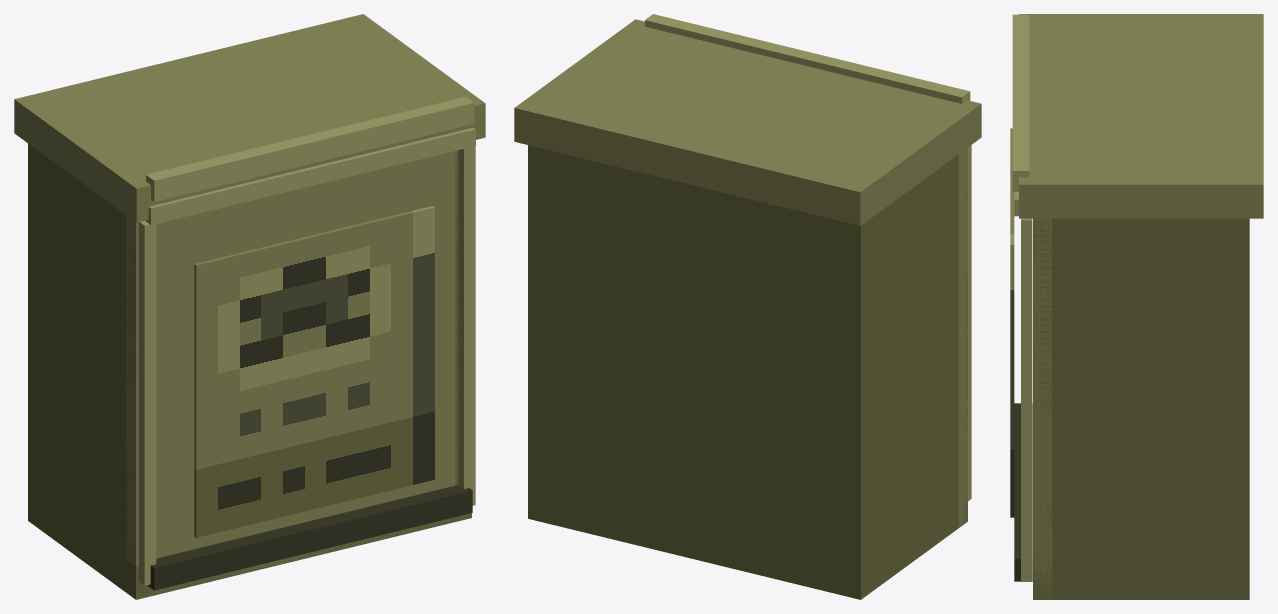
File: CMU3DRMCMRESPPExtraCloud.glb
The picture shows the model from 3 angles, left to right: view 1: azimuth 30°, elevation 25°; view 2: azimuth 150°, elevation 25°; view 3: azimuth 270°, elevation 25°; orthographic projection.
Visible parts, largest first — view 1: original ration printed face, closed folded top, front thick package wall, left full-depth folded side, lower horizontal heat-seal, top closure band, upper neck front folded lip, left raised side seam, right raised side seam, closed ration floor, rear thick package wall, right full-depth folded side; view 2: rear thick package wall, closed folded top, left full-depth folded side, closed ration floor, top closure band, front thick package wall, right full-depth folded side, left raised side seam; view 3: right full-depth folded side, closed folded top, rear thick package wall, front thick package wall, closed ration floor, right raised side seam, top closure band, original ration printed face, lower horizontal heat-seal.
Boxes of the visible parts, x1=… form: original ration printed face: x1=194, y1=206, x2=434, y2=537; closed folded top: x1=14, y1=14, x2=485, y2=222; front thick package wall: x1=126, y1=151, x2=471, y2=599; left full-depth folded side: x1=28, y1=144, x2=138, y2=599; lower horizontal heat-seal: x1=147, y1=485, x2=472, y2=590; top closure band: x1=146, y1=96, x2=474, y2=201; upper neck front folded lip: x1=145, y1=127, x2=475, y2=224; left raised side seam: x1=139, y1=221, x2=156, y2=585; right raised side seam: x1=458, y1=146, x2=475, y2=505; closed ration floor: x1=28, y1=487, x2=471, y2=599; rear thick package wall: x1=28, y1=143, x2=37, y2=527; right full-depth folded side: x1=455, y1=150, x2=471, y2=521; rear thick package wall: x1=528, y1=145, x2=870, y2=599; closed folded top: x1=514, y1=19, x2=981, y2=225; left full-depth folded side: x1=844, y1=148, x2=967, y2=598; closed ration floor: x1=528, y1=486, x2=967, y2=599; top closure band: x1=645, y1=14, x2=970, y2=103; front thick package wall: x1=958, y1=148, x2=967, y2=527; right full-depth folded side: x1=528, y1=145, x2=543, y2=514; left raised side seam: x1=968, y1=145, x2=971, y2=501; right full-depth folded side: x1=1033, y1=218, x2=1249, y2=599; closed folded top: x1=1019, y1=14, x2=1263, y2=218; rear thick package wall: x1=1230, y1=218, x2=1249, y2=599; front thick package wall: x1=1033, y1=218, x2=1052, y2=599; closed ration floor: x1=1033, y1=566, x2=1249, y2=599; right raised side seam: x1=1021, y1=218, x2=1032, y2=580; top closure band: x1=1012, y1=14, x2=1029, y2=191; original ration printed face: x1=1010, y1=128, x2=1014, y2=517; lower horizontal heat-seal: x1=1014, y1=403, x2=1032, y2=581.
Size of what is drawn, in the model's own units: 0.503 by 0.5845 by 0.316.
Materials: 5 (1 with a texture image).
